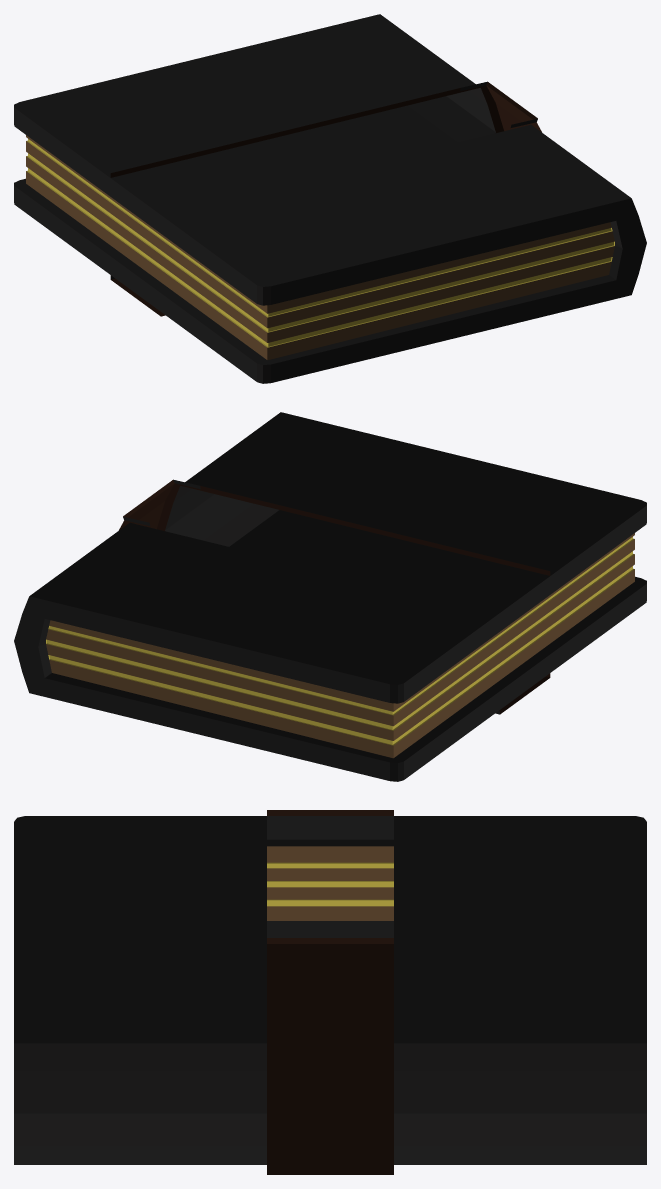
File: Notebook 6.fbx
3 renders of one model, top to bottom at view 1: azimuth 30°, elevation 25°; view 2: azimuth 150°, elevation 25°; view 3: azimuth 270°, elevation 25°, orthographic. The views are drawn at different scales.
Visible parts, largest first — view 1: Node 0; view 2: Node 0; view 3: Node 0.
Boxes of the visible parts, x1,y1,x2,y2 form: Node 0: (14,14,646,383); Node 0: (14,412,646,781); Node 0: (14,810,646,1174).
Bounding box in the file's own units: 0.2481 × 0.0579 × 0.224.
